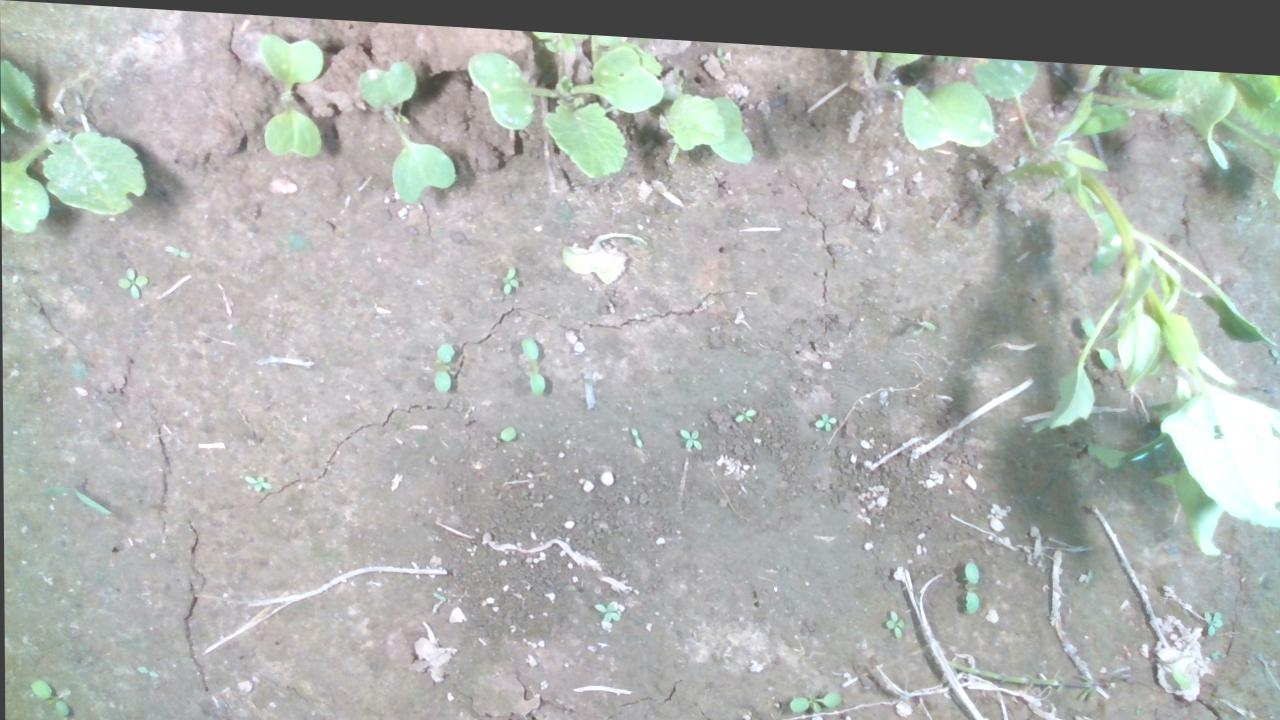weed: (26, 676, 68, 717), (518, 329, 545, 391), (784, 677, 840, 706), (113, 261, 147, 297), (433, 334, 453, 387), (961, 547, 978, 603), (498, 257, 520, 289), (676, 416, 702, 442), (592, 591, 619, 616), (881, 597, 903, 627), (1201, 592, 1222, 622), (812, 399, 835, 421), (160, 241, 191, 256), (732, 396, 756, 413), (627, 417, 642, 440)
